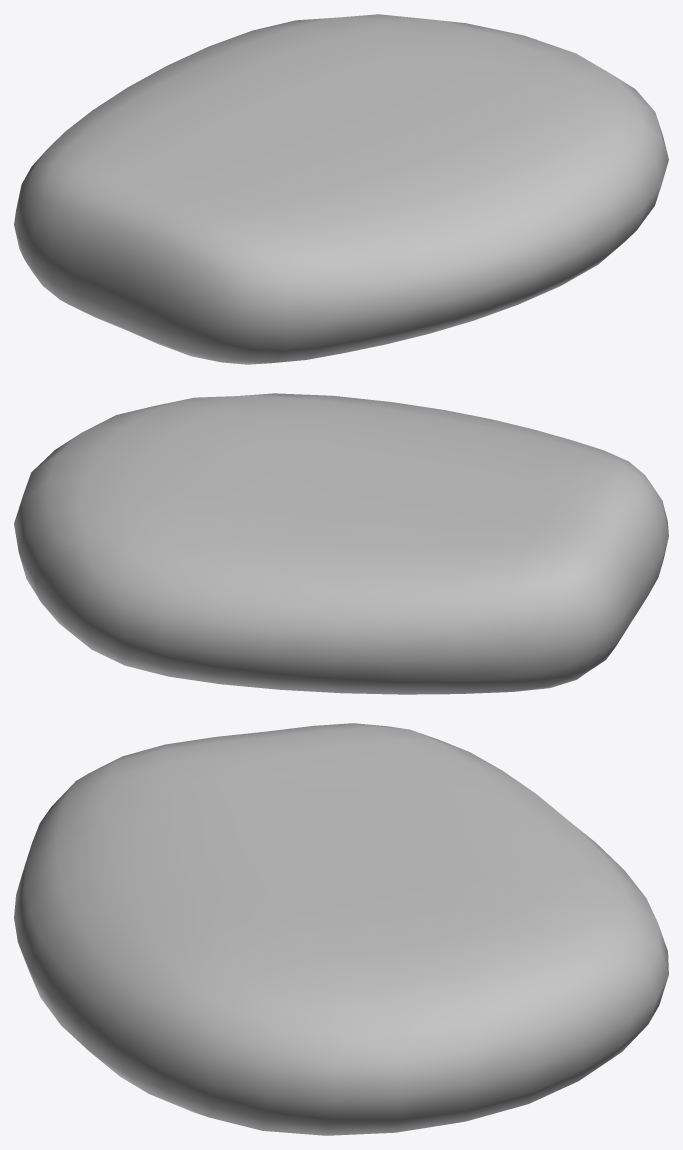
Rendered from Farm_17_Stone_1.glb.
The picture shows the model from 3 angles, top to bottom: view 1: azimuth 30°, elevation 25°; view 2: azimuth 150°, elevation 25°; view 3: azimuth 270°, elevation 25°; orthographic projection. The views are drawn at different scales.
Visible parts, largest first — view 1: Farm_17_Stone_1; view 2: Farm_17_Stone_1; view 3: Farm_17_Stone_1.
Part boxes in pixels (x1,y1,x2,y2): Farm_17_Stone_1: (14,14,668,364); Farm_17_Stone_1: (14,393,668,694); Farm_17_Stone_1: (14,723,668,1135).
Size of the model in its own units: 1.4 by 0.3085 by 1.18.
1 material, 1 textured.
